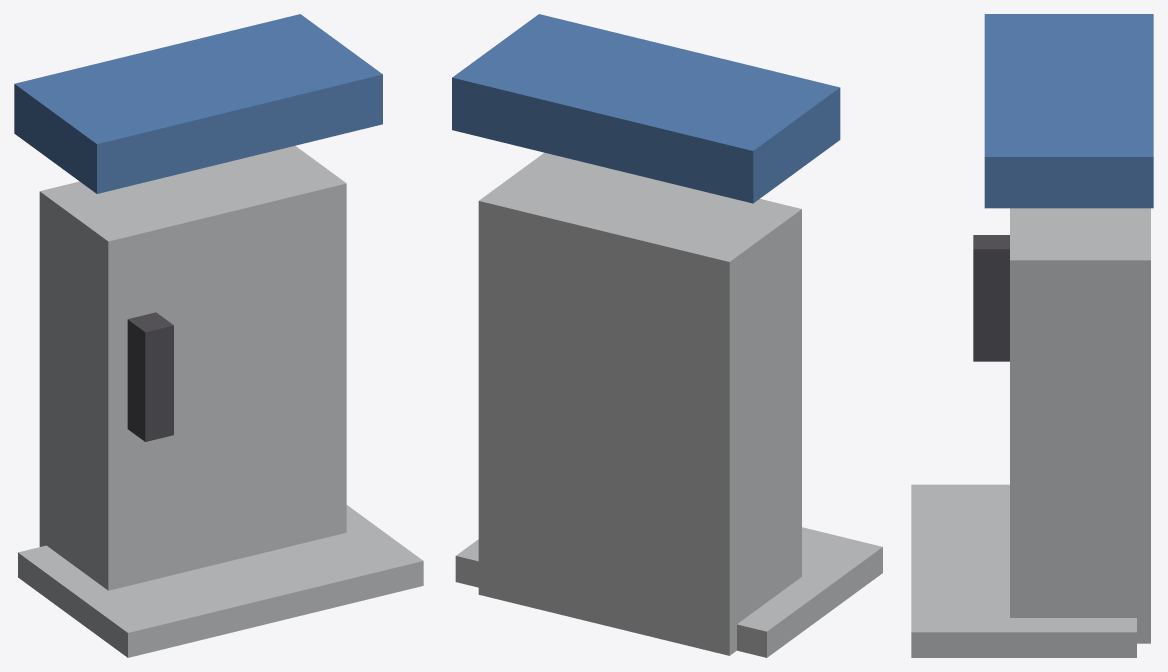
Rendered from payphone.glb.
3 views of the same model, side by side, from view 1: azimuth 30°, elevation 25°; view 2: azimuth 150°, elevation 25°; view 3: azimuth 270°, elevation 25° (orthographic). The views are drawn at different scales.
Visible parts, largest first — view 1: metal, box.003, box.001; view 2: metal, box.003; view 3: metal, box.003, box.001.
Part boxes in pixels (x1,y1,x2,y2): metal: (18,146,423,657); box.003: (14,14,382,193); box.001: (127,312,173,441); metal: (455,152,882,657); box.003: (452,14,840,203); metal: (911,208,1150,657); box.003: (984,14,1153,208); box.001: (973,235,1009,361).
Size of the model in its own units: 0.62 by 0.975 by 0.43.
